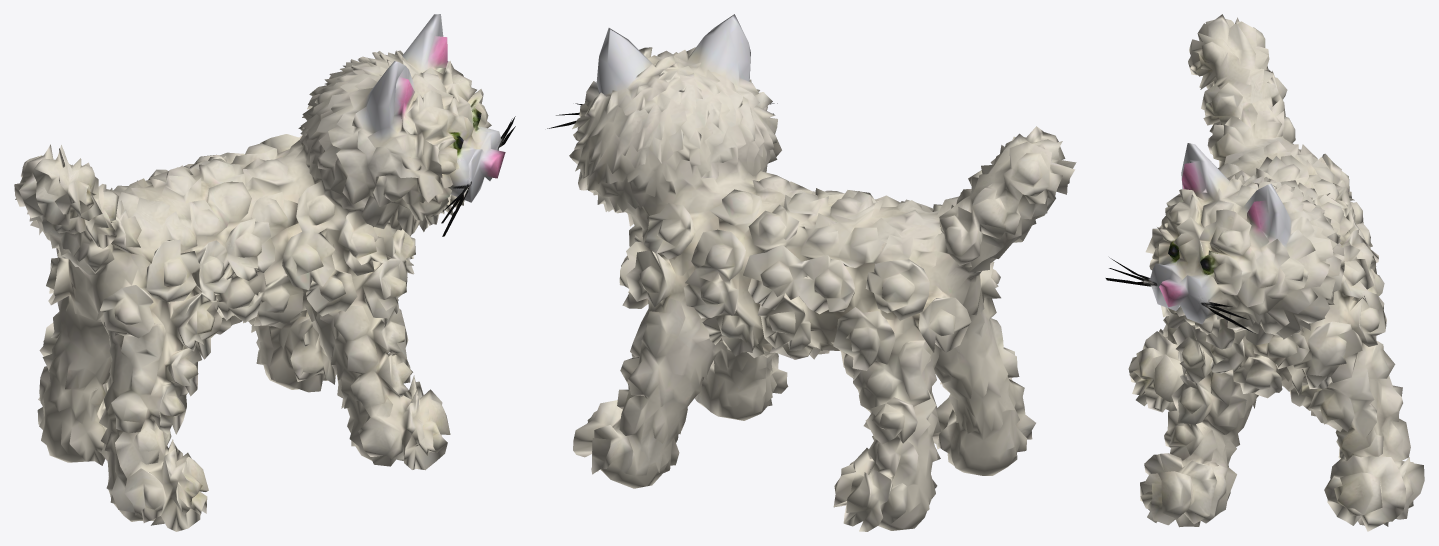
File: CORSAGE.glb
3 views of the same model, side by side, from view 1: azimuth 30°, elevation 25°; view 2: azimuth 150°, elevation 25°; view 3: azimuth 270°, elevation 25° (orthographic). The views are drawn at different scales.
Parts seen in each view (by area): view 1: tripo_node_22ffcb30-f45e-407f-b49d-883fe25bd4b0; view 2: tripo_node_22ffcb30-f45e-407f-b49d-883fe25bd4b0; view 3: tripo_node_22ffcb30-f45e-407f-b49d-883fe25bd4b0.
Part boxes in pixels (x1,y1,x2,y2): tripo_node_22ffcb30-f45e-407f-b49d-883fe25bd4b0: [14, 14, 515, 531]; tripo_node_22ffcb30-f45e-407f-b49d-883fe25bd4b0: [547, 14, 1076, 531]; tripo_node_22ffcb30-f45e-407f-b49d-883fe25bd4b0: [1105, 14, 1424, 531].
Size of the model in its own units: 1.36 by 1 by 0.7752.
Materials: 1 (1 with a texture image).
